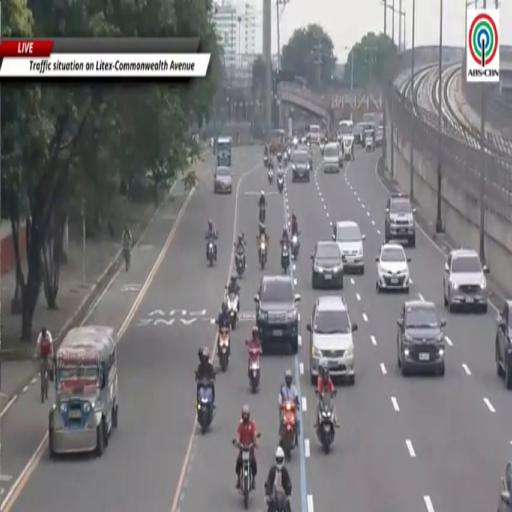car: (307, 296, 357, 385), (397, 300, 446, 376), (254, 276, 300, 354), (444, 249, 488, 312), (333, 221, 365, 274), (385, 194, 416, 247), (376, 244, 410, 292), (495, 300, 512, 389), (312, 242, 343, 289), (498, 461, 511, 511), (291, 151, 311, 182), (323, 142, 342, 172), (214, 167, 232, 194), (341, 135, 354, 161), (354, 123, 364, 146), (365, 131, 375, 152), (375, 125, 383, 147)
jeepney: (49, 326, 118, 456), (217, 137, 232, 167), (269, 130, 284, 154)
motorcycle: (233, 440, 254, 509), (316, 391, 335, 454), (280, 402, 296, 460), (197, 380, 214, 434), (248, 348, 260, 393), (267, 488, 290, 511), (218, 328, 230, 372), (227, 293, 239, 329), (281, 244, 290, 273), (236, 249, 245, 277), (259, 239, 267, 269), (291, 234, 300, 260), (207, 239, 215, 266), (123, 248, 130, 271), (277, 174, 284, 193), (259, 206, 266, 223), (268, 168, 274, 184), (276, 152, 282, 163), (284, 152, 288, 166), (264, 156, 268, 167)
